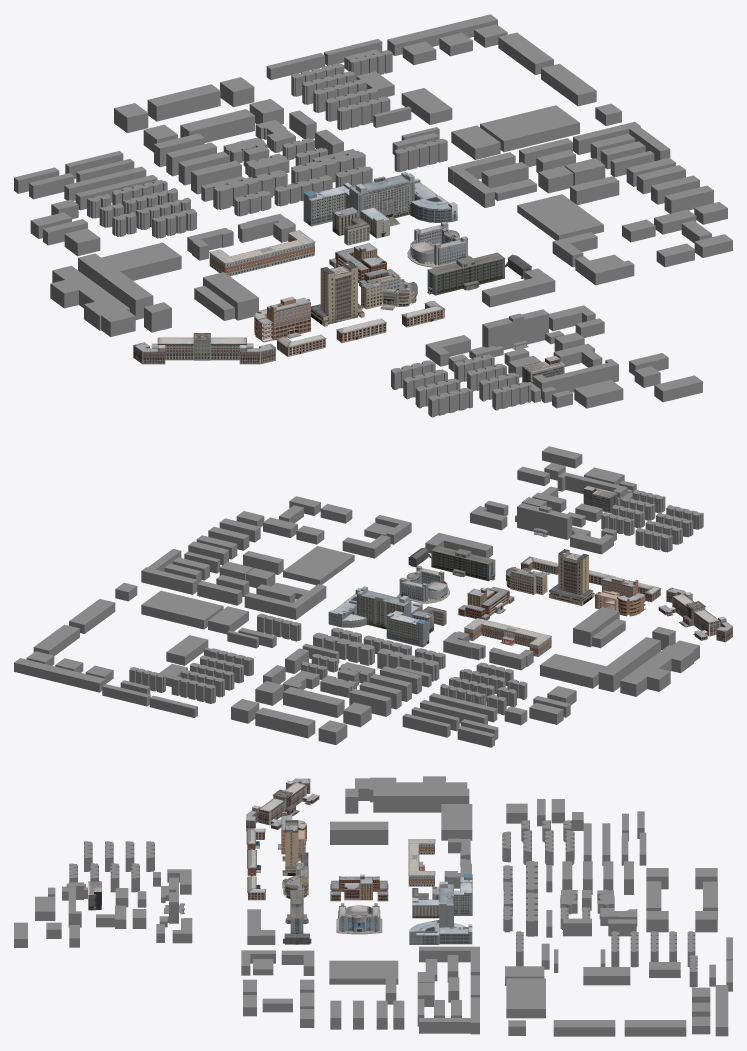
The model's file is XGD_OLD.FBX.
3 renders of one model, top to bottom at view 1: azimuth 30°, elevation 25°; view 2: azimuth 150°, elevation 25°; view 3: azimuth 270°, elevation 25°, orthographic. The views are drawn at different scales.
Parts seen in each view (by area): view 1: hangkonglou, gongzilou, box_121, box_124, box_64, box_39, box_93, yongzilou, chengzilou, yizilou, box_119, box_123 (+74 smaller); view 2: hangkonglou, box_121, box_124, box_64, gongzilou, yongzilou, box_93, box_39, chengzilou, yizilou, box_123, yanjiusheng xiguan (+59 smaller); view 3: hangkonglou, box_123, gongzilou, box_93, box_64, box_119, lao tushuguan, box_121, xin tushuguan, box_124, box_120, chengzilou (+30 smaller).
Boxes of the visible parts, x1,y1,x2,y2 form: hangkonglou: (303, 172, 457, 245); gongzilou: (133, 333, 275, 364); box_121: (50, 265, 135, 336); box_124: (154, 133, 241, 194); box_64: (480, 105, 579, 152); box_39: (469, 309, 564, 358); box_93: (517, 194, 603, 240); yongzilou: (311, 261, 364, 326); chengzilou: (209, 230, 315, 276); yizilou: (427, 252, 505, 295); box_119: (194, 272, 258, 320); box_123: (78, 253, 153, 319); hangkonglou: (328, 586, 446, 647); box_121: (620, 640, 699, 696); box_124: (349, 666, 421, 716); box_64: (141, 590, 223, 629); gongzilou: (658, 587, 732, 642); yongzilou: (549, 549, 594, 605); box_93: (283, 546, 354, 585); box_39: (515, 503, 590, 539); chengzilou: (464, 618, 551, 656); yizilou: (431, 545, 495, 581); box_123: (598, 637, 660, 691); yanjiusheng xiguan: (595, 575, 645, 616); hangkonglou: (409, 874, 472, 944); box_123: (373, 788, 469, 812); gongzilou: (246, 778, 319, 831); box_93: (329, 960, 398, 984); box_64: (506, 978, 545, 1018); box_119: (330, 821, 388, 844); lao tushuguan: (330, 874, 388, 901); box_121: (355, 776, 467, 802); xin tushuguan: (336, 903, 382, 934); box_124: (562, 861, 633, 894); box_120: (441, 804, 472, 840); chengzilou: (408, 839, 435, 886).
Size of what is drawn, in the model's own units: 606 by 48.25 by 743.
